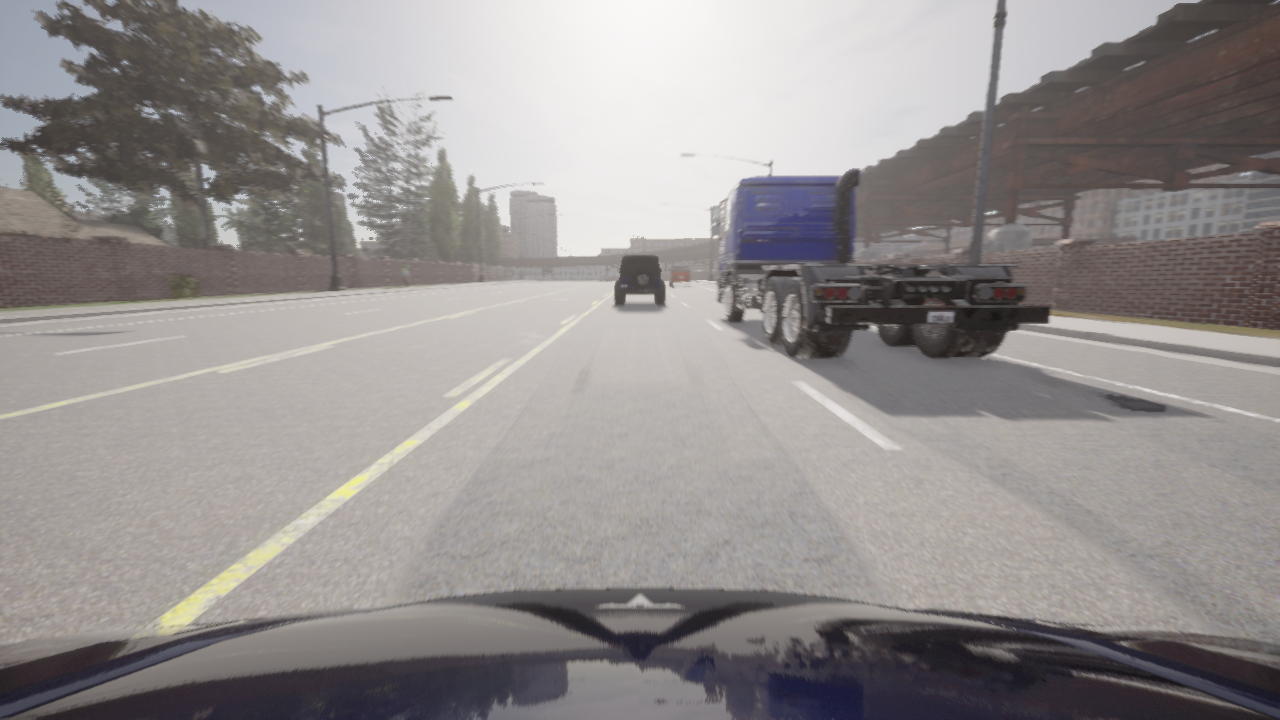cyclist: (0, 588, 1279, 719), (710, 169, 1050, 358), (615, 255, 664, 304), (669, 266, 689, 279)
pedestrian: (401, 262, 410, 288)
